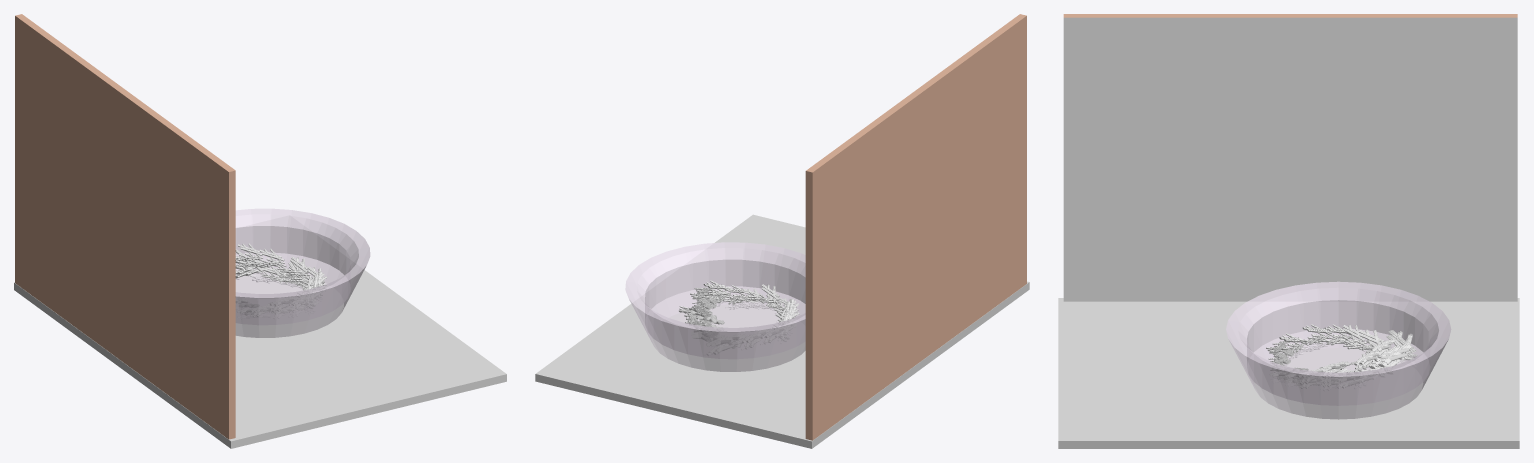
The model's file is cristal2.glb.
3 renders of one model, left to right at view 1: azimuth 30°, elevation 25°; view 2: azimuth 150°, elevation 25°; view 3: azimuth 270°, elevation 25°, orthographic. The views are drawn at different scales.
Parts seen in each view (by area): view 1: Cubo, Cubo.001, Cilindro; view 2: Cubo, Cubo.001, Cilindro; view 3: Cubo, Cubo.001, Cilindro, Cilindro.109, Cilindro.001.
Part boxes in pixels (bbox=[...]): Cubo: bbox=[15, 14, 235, 439]; Cubo.001: bbox=[14, 215, 506, 448]; Cilindro: bbox=[235, 208, 370, 337]; Cubo: bbox=[805, 14, 1026, 440]; Cubo.001: bbox=[535, 214, 1029, 448]; Cilindro: bbox=[625, 242, 805, 371]; Cubo: bbox=[1063, 14, 1517, 301]; Cubo.001: bbox=[1058, 298, 1519, 448]; Cilindro: bbox=[1226, 281, 1451, 419]; Cilindro.109: bbox=[1366, 344, 1411, 376]; Cilindro.001: bbox=[1363, 330, 1418, 362].
Bounding box in the file's own units: 6.08 × 5.79 × 8.29.
